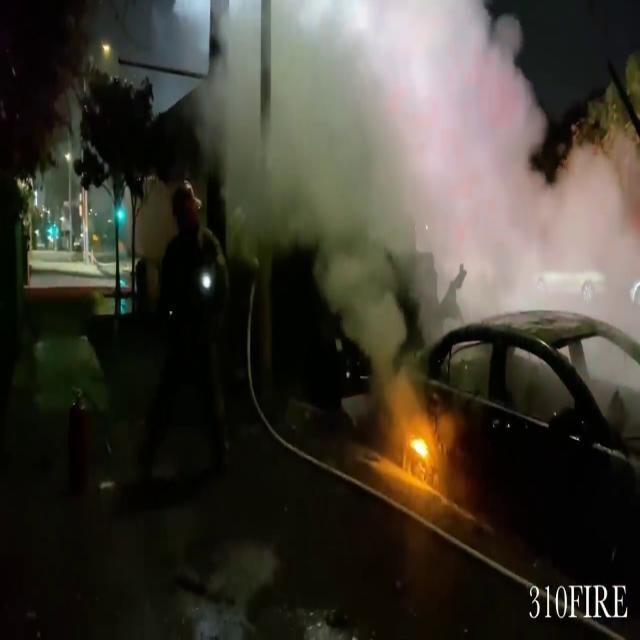Fire: (404, 416, 436, 476)
Smoke: (206, 0, 636, 318)
